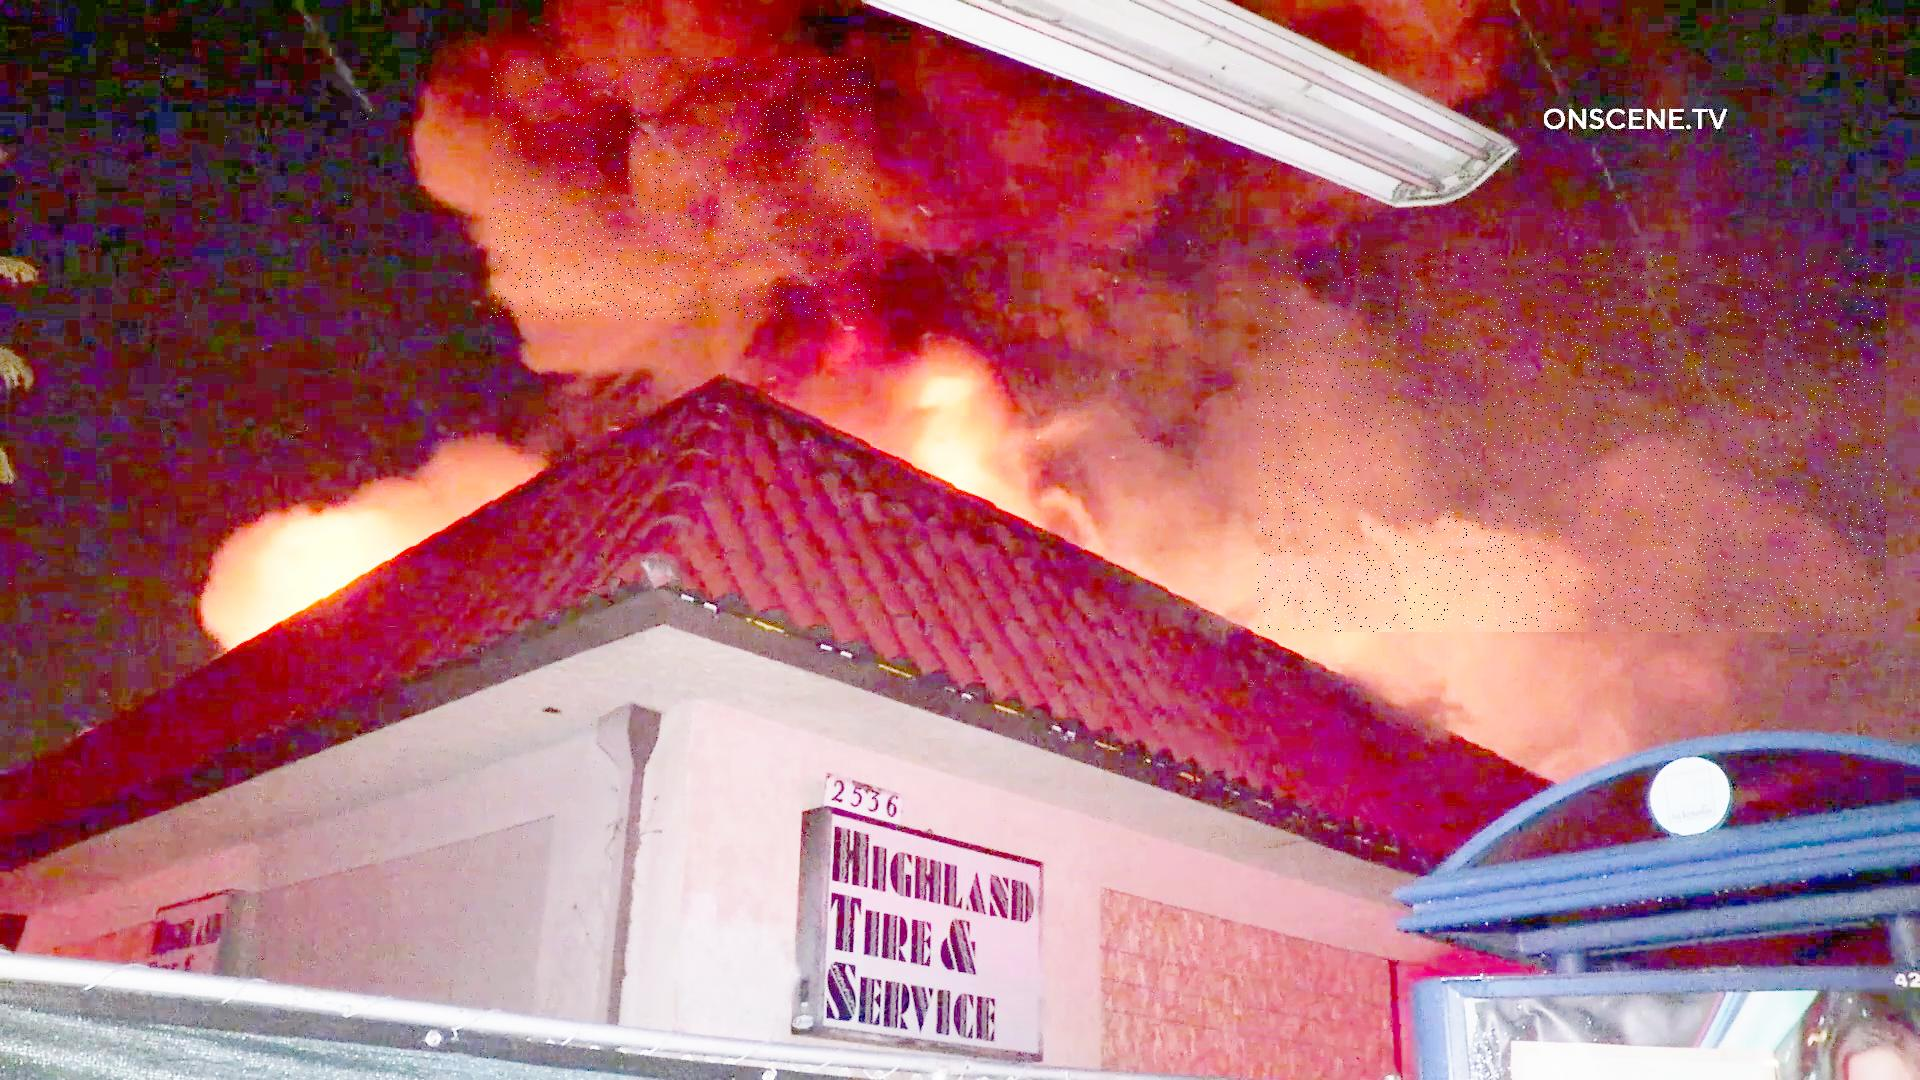smoke: (1258, 251, 1888, 633), (491, 58, 876, 320)
